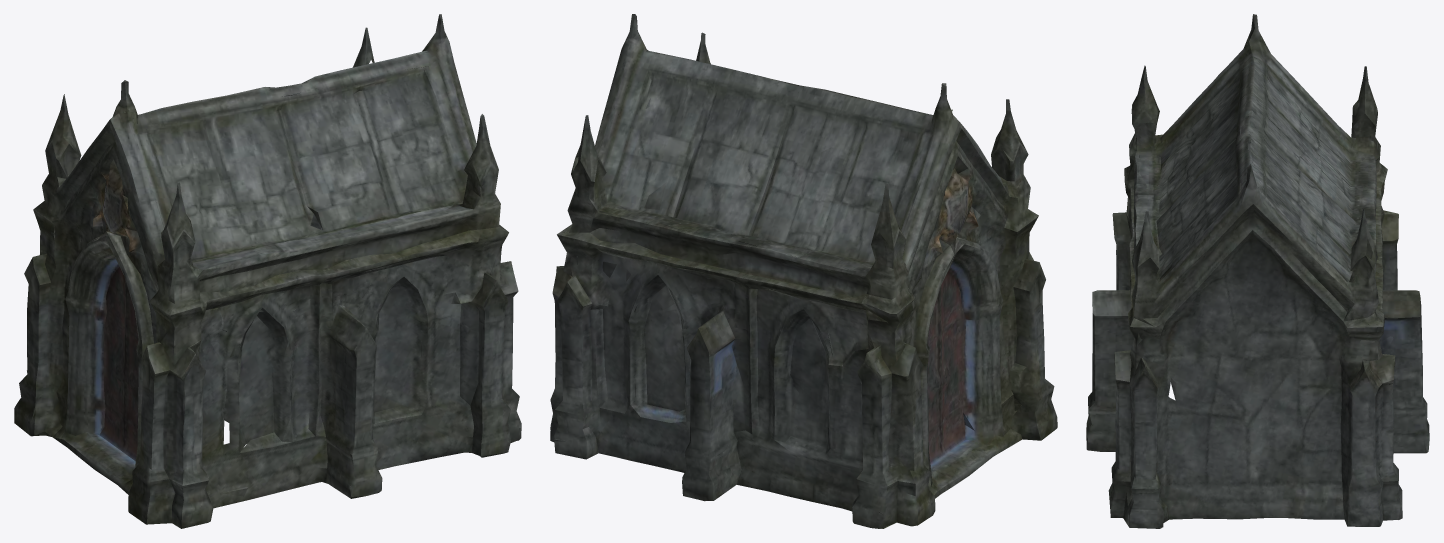
The model's file is mausoleum.glb.
3 renders of one model, left to right at view 1: azimuth 30°, elevation 25°; view 2: azimuth 150°, elevation 25°; view 3: azimuth 270°, elevation 25°, orthographic. The views are drawn at different scales.
Parts seen in each view (by area): view 1: game; view 2: game; view 3: game.
Boxes of the visible parts, x1,y1,x2,y2 form: game: (14,14,521,528); game: (550,14,1057,528); game: (1086,14,1429,528).
Bounding box in the file's own units: 1 × 0.989 × 0.844.
1 material, 1 textured.
